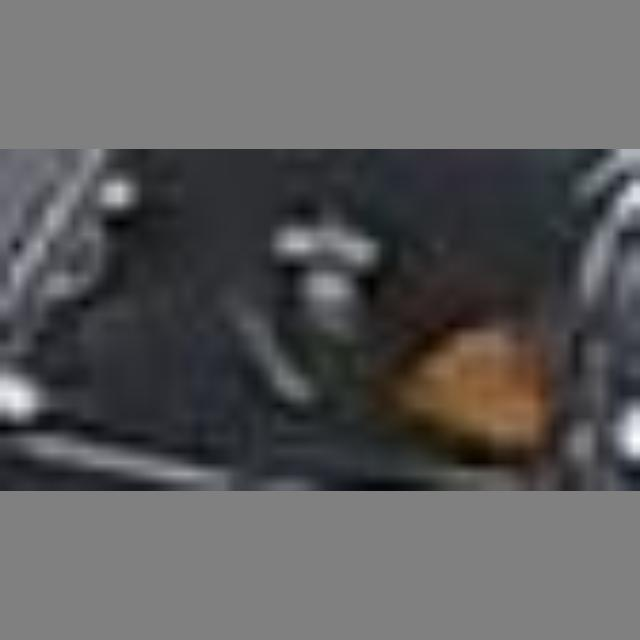tidak-pakai: (389, 263, 571, 446)
